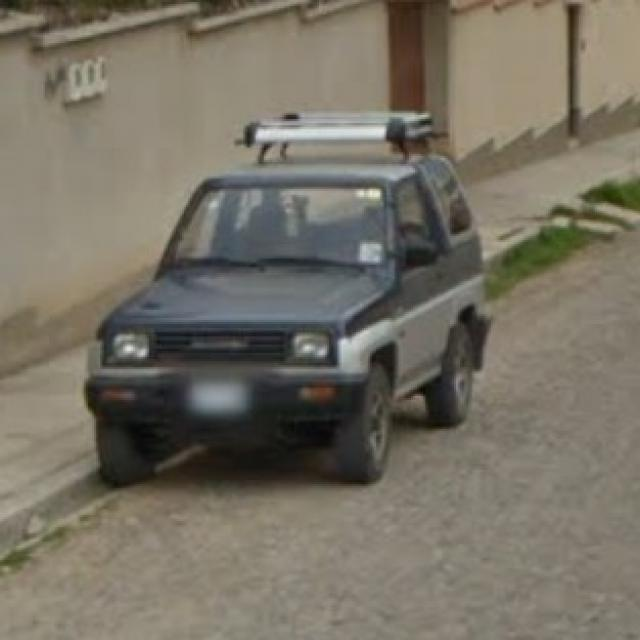cars: (84, 154, 488, 489)
